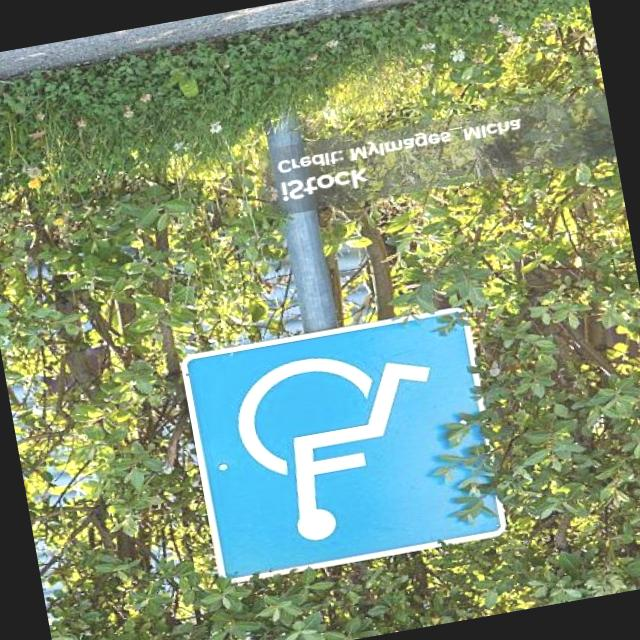symbol_of_access: (178, 306, 508, 586)
